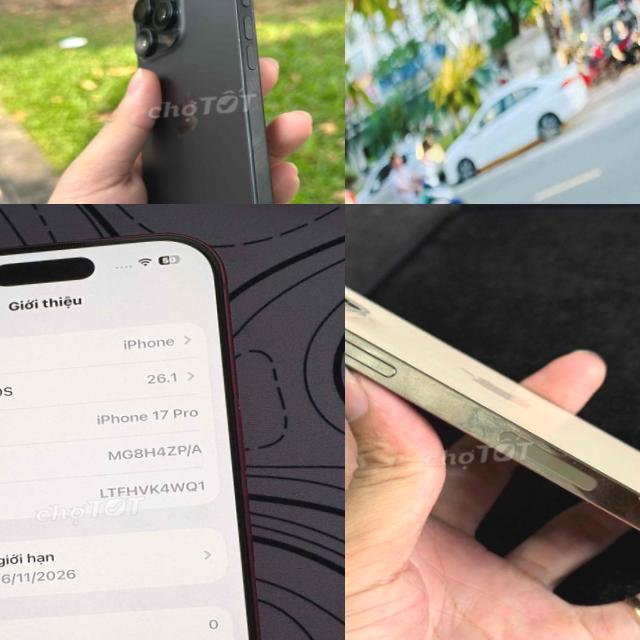gen_14: (345, 204, 640, 640)
gen_16: (100, 0, 325, 204)
gen_17: (0, 225, 275, 640)
